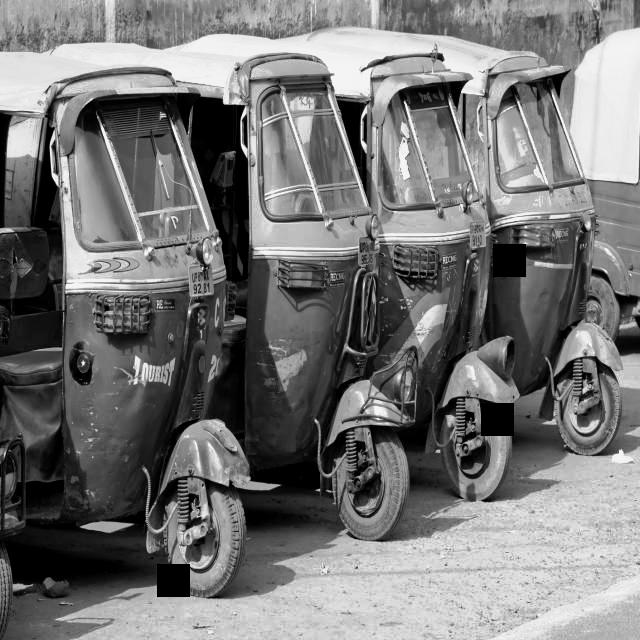Auto-Rickshaw: (1, 49, 259, 613), (181, 42, 419, 548), (343, 42, 522, 509), (470, 31, 640, 475)
